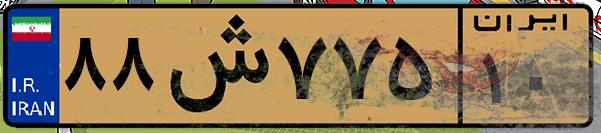0: (525, 38, 570, 115)
1: (475, 38, 525, 113)
5: (385, 28, 445, 110)
7: (270, 28, 330, 110), (330, 28, 385, 110)
8: (57, 26, 110, 100), (110, 28, 158, 98)
ش: (158, 12, 270, 120)
